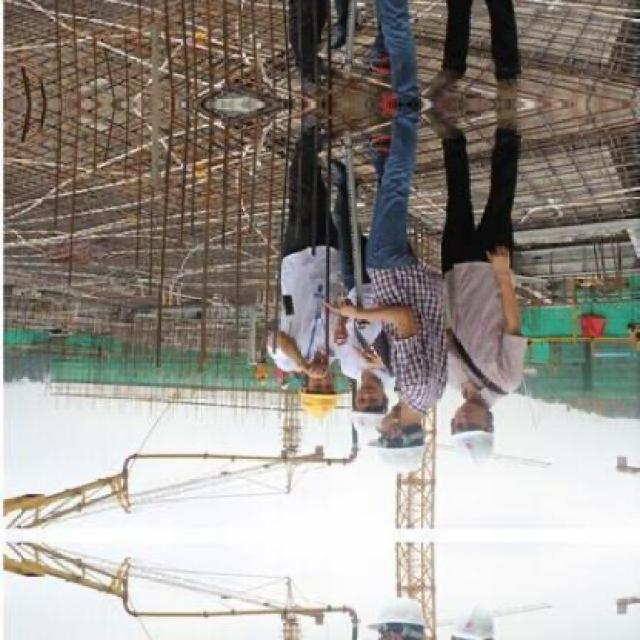con casco: (347, 397, 453, 480), (443, 396, 523, 482), (258, 364, 320, 432)
sin casco: (324, 389, 381, 436)
